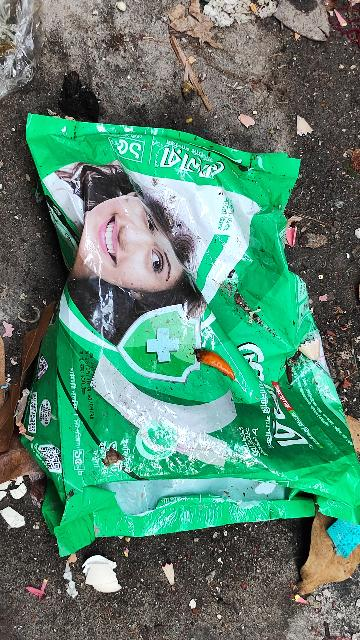packet: (16, 90, 360, 535)
